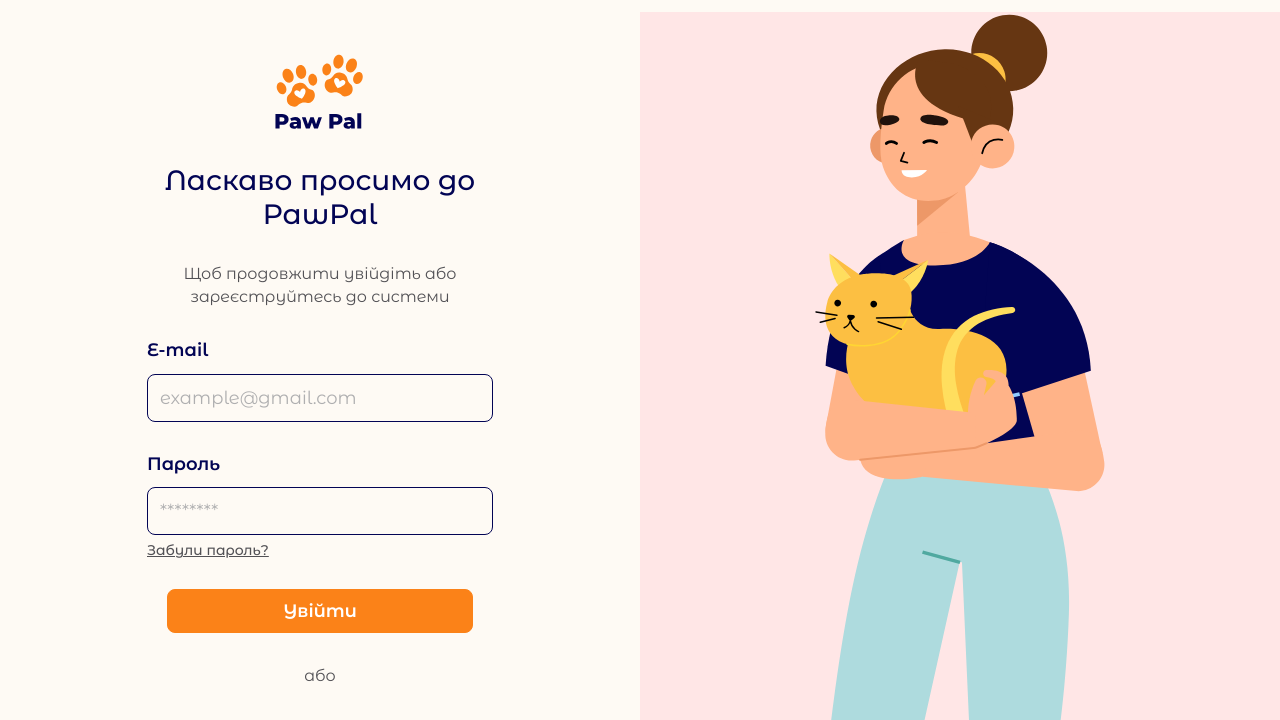
SignUpForm Login › should show validation error for invalid email format
Note: Enter invalid email
Type "invalid-email" into the field named "email".
click(320, 398); type("invalid-email")  # box x1=147 y1=374 x2=493 y2=422
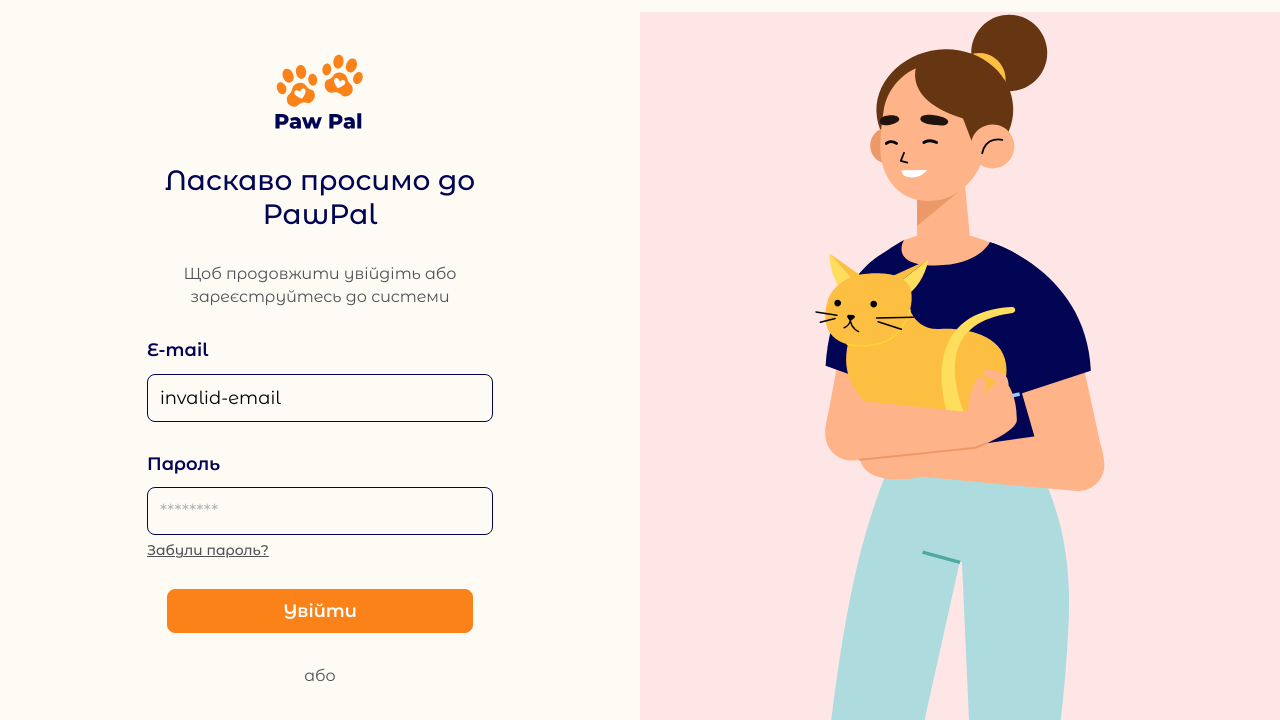
Type "password123" into the password field named "password".
click(320, 511); type("password123")  # box x1=147 y1=487 x2=493 y2=535
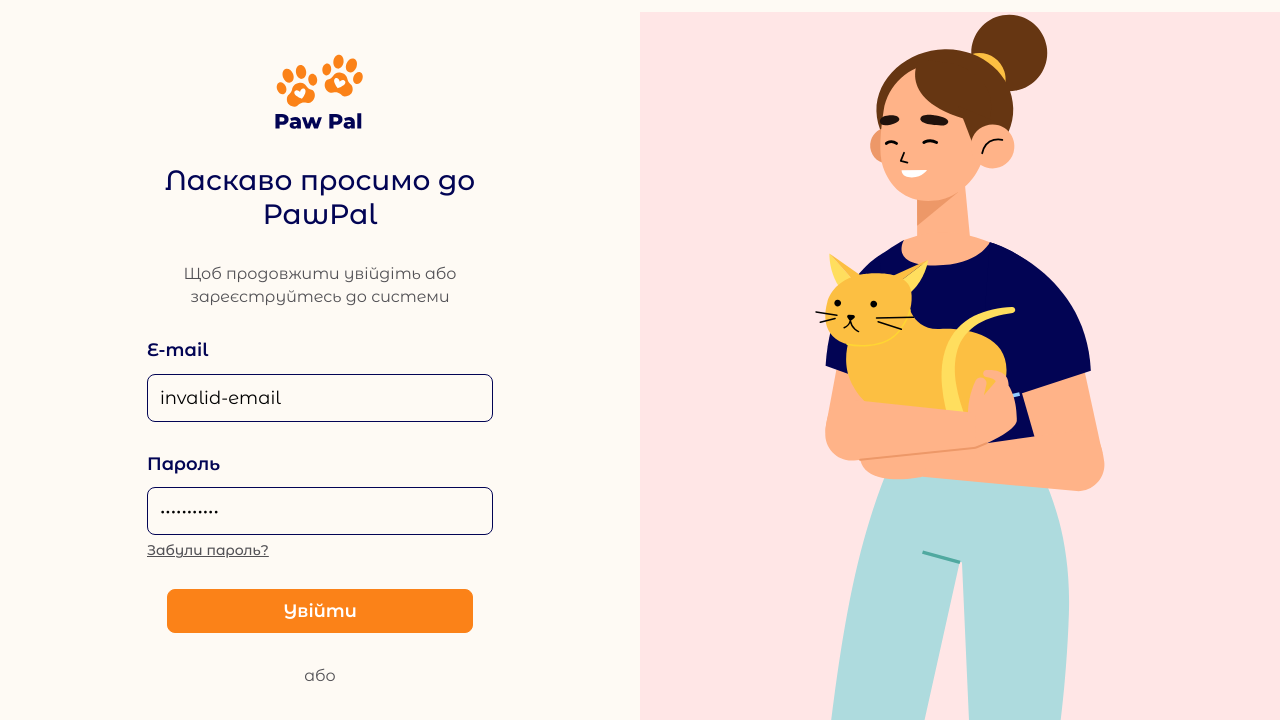
Click the button "Увійти".
click(320, 611)  # box x1=167 y1=589 x2=473 y2=633
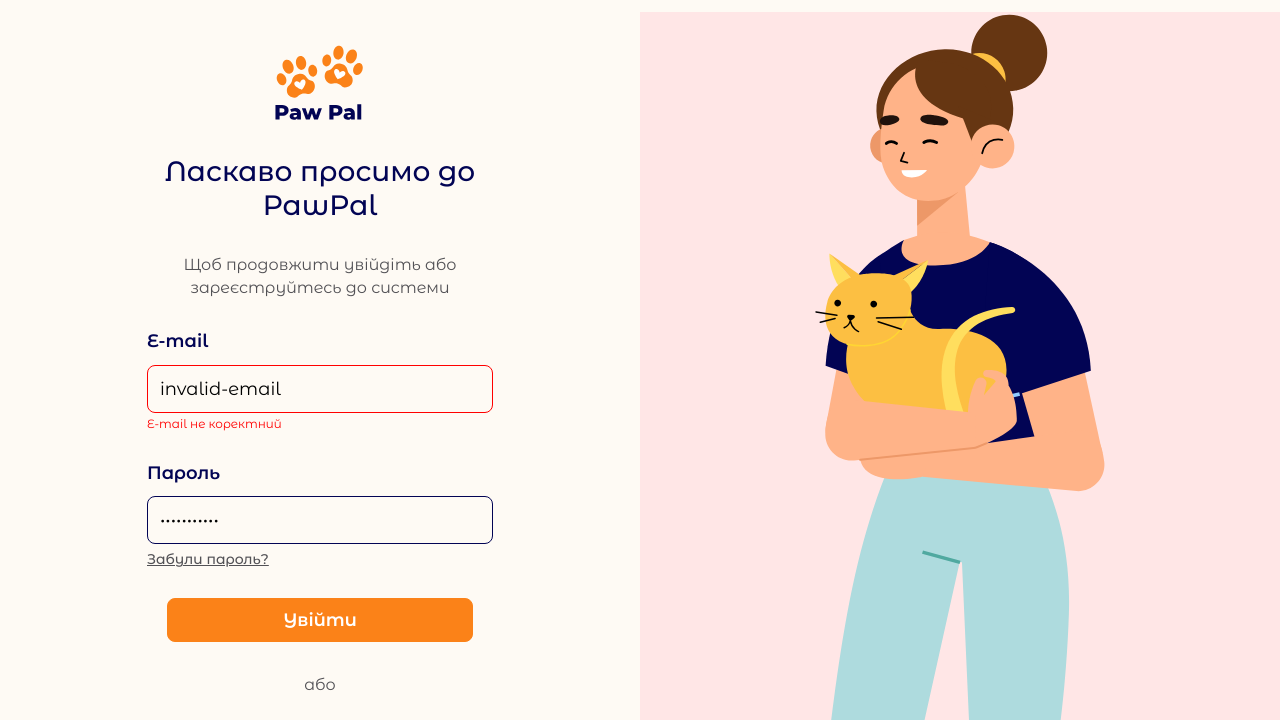
Expected: the text "E-mail не коректний" is shown, x1=147 y1=416 x2=282 y2=431
